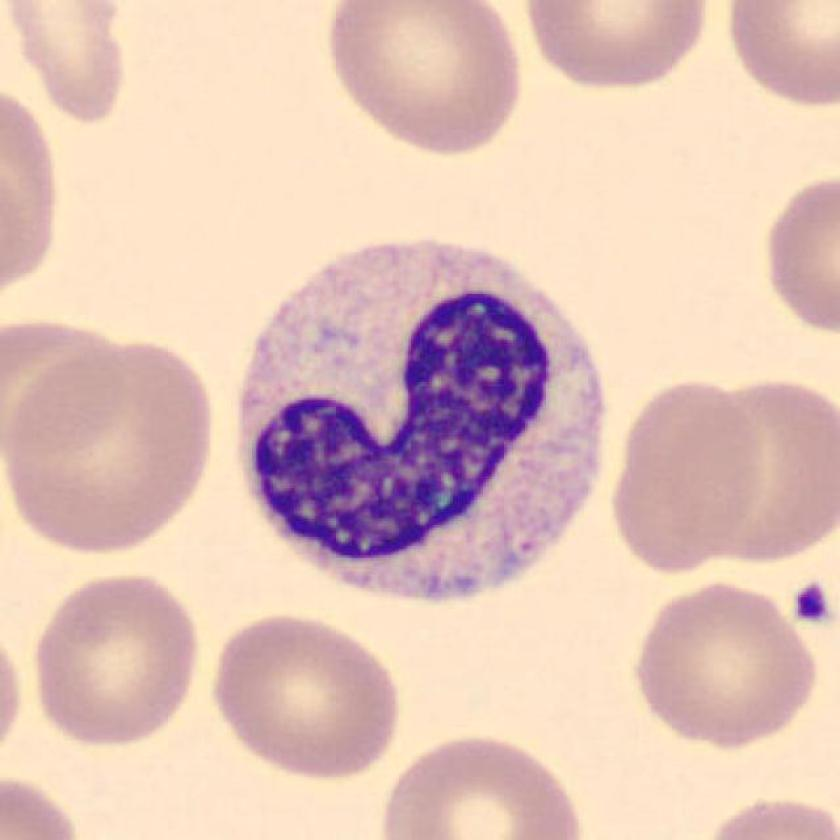neutrophil: (240, 242, 605, 604)
